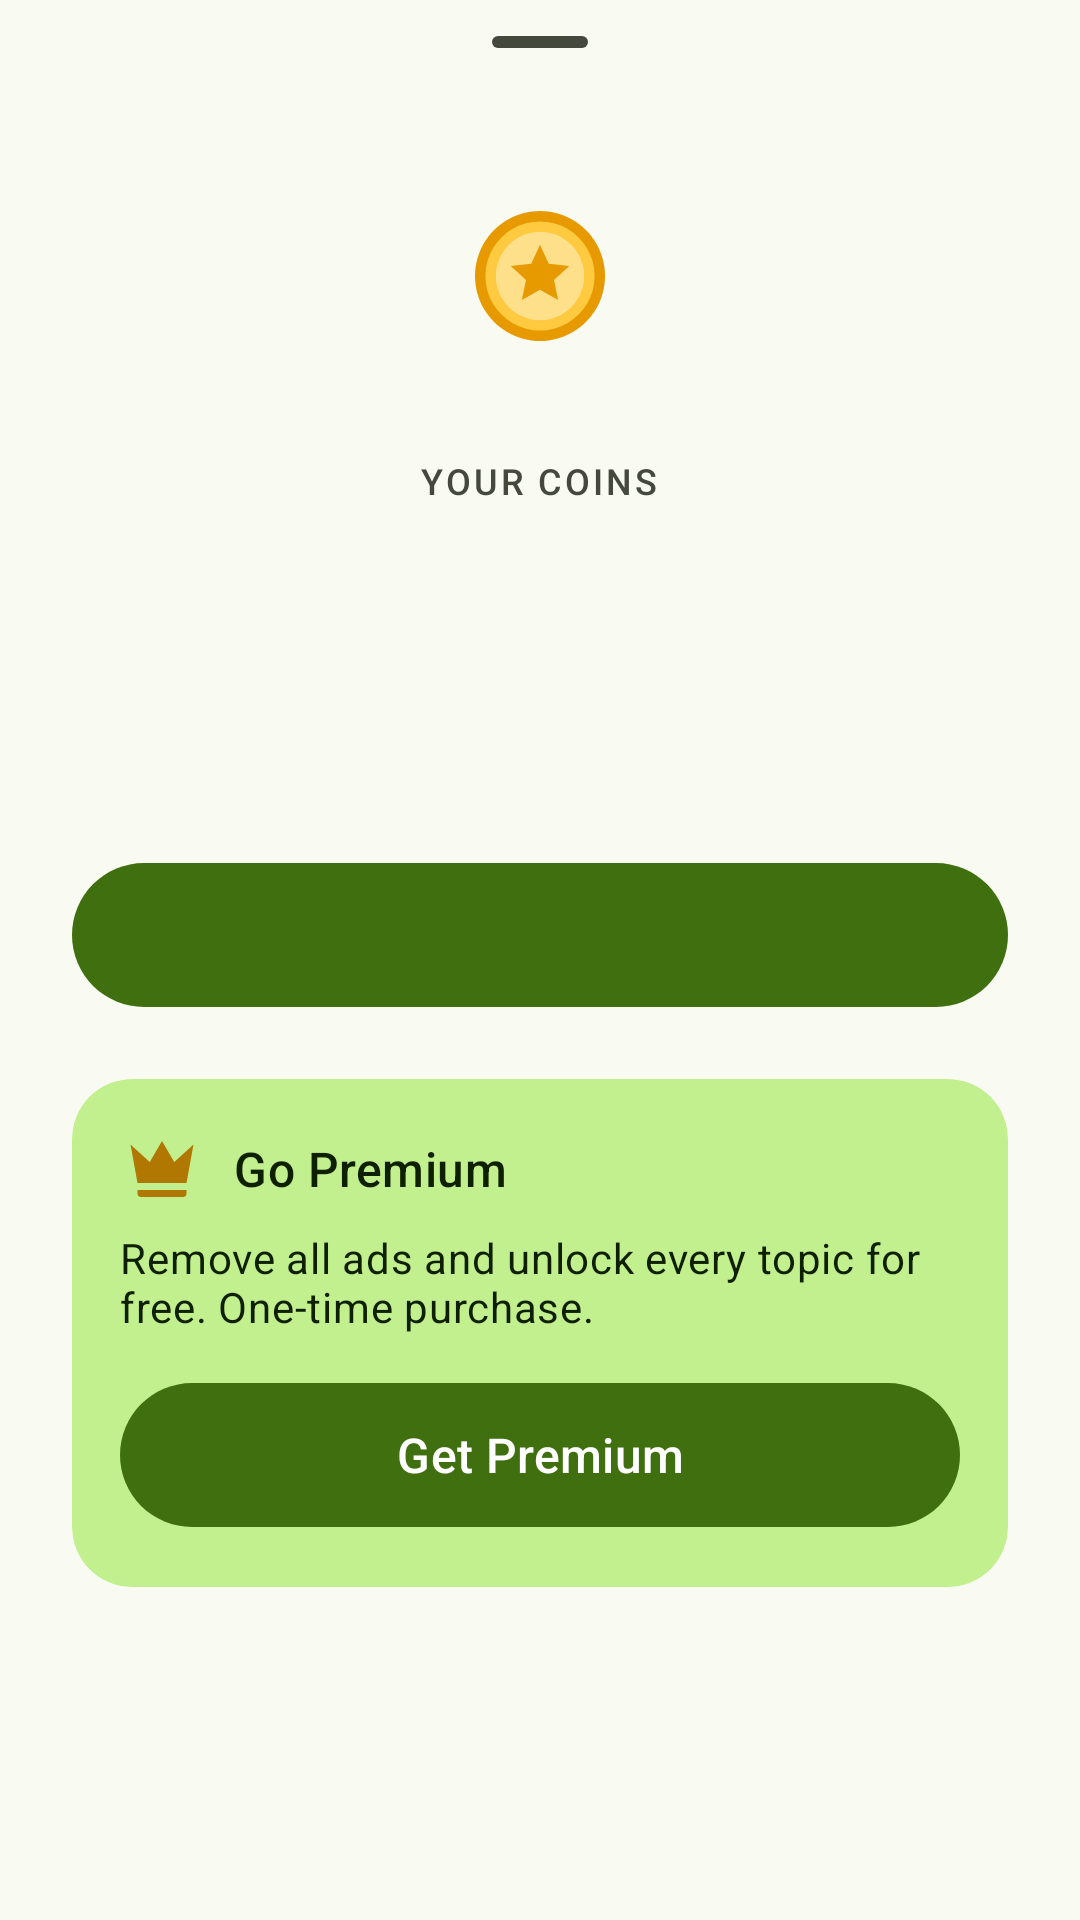

Icons on this 1080px×1920px Android screen, each with the point to tap as (x,y):
crown: (162,1169)
